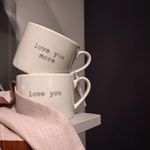cups: (11, 20, 94, 75), (14, 73, 95, 121)
